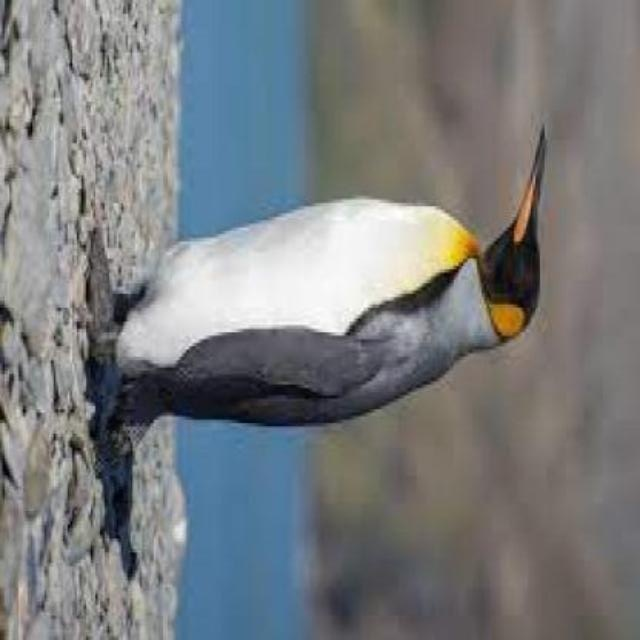penguin: (84, 124, 548, 477)
